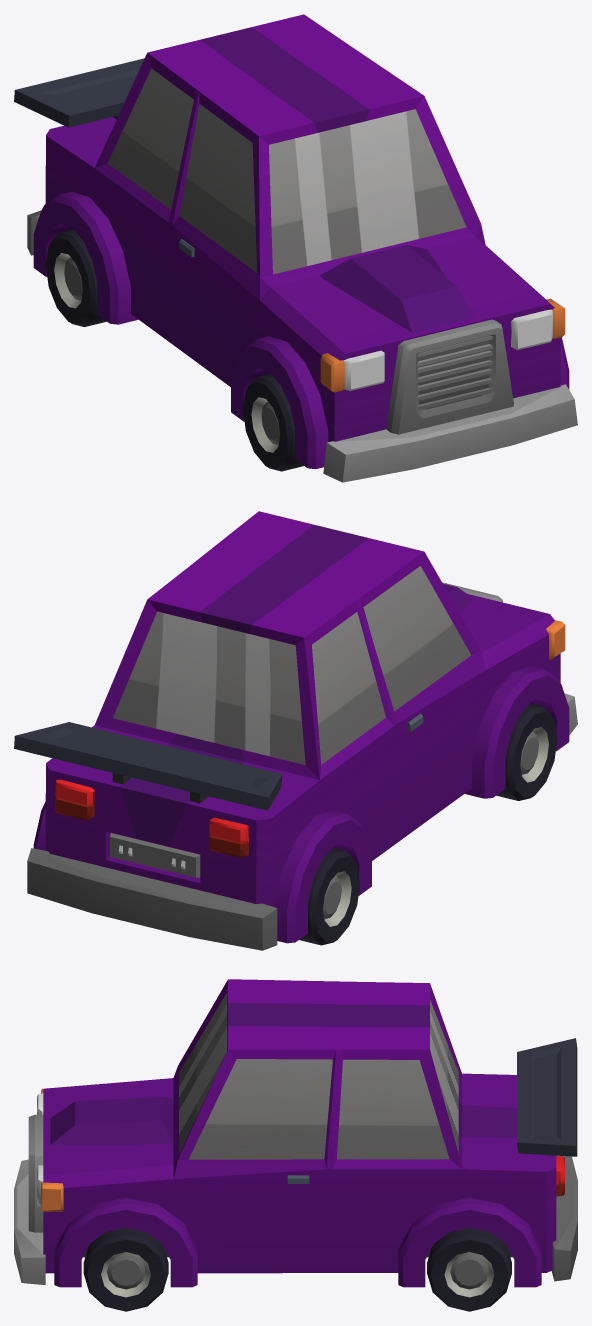
Rendered from SportCar_10.glb.
3 views of the same model, one above another, from view 1: azimuth 30°, elevation 25°; view 2: azimuth 150°, elevation 25°; view 3: azimuth 270°, elevation 25° (orthographic). The views are drawn at different scales.
Visible parts, largest first — view 1: SportCar_10, Wheel_fr, Wheel_br; view 2: SportCar_10, Wheel_br, Wheel_fr; view 3: SportCar_10, Wheel_fl, Wheel_bl.
Part boxes in pixels (<box>): SportCar_10: <box>14,14,577,482</box>; Wheel_fr: <box>243,373,303,471</box>; Wheel_br: <box>45,229,106,326</box>; SportCar_10: <box>14,511,577,950</box>; Wheel_br: <box>299,847,360,945</box>; Wheel_fr: <box>496,703,557,800</box>; SportCar_10: <box>14,979,577,1287</box>; Wheel_fl: <box>83,1228,168,1311</box>; Wheel_bl: <box>427,1228,511,1311</box>.
Size of the model in its own units: 1.12 by 1.1 by 2.33.
7 materials, 7 textured.
